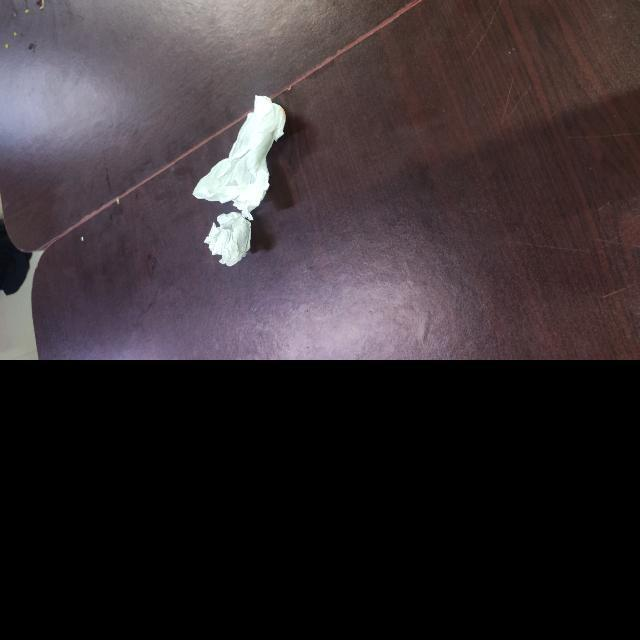kitchen paper: (198, 93, 285, 274)
